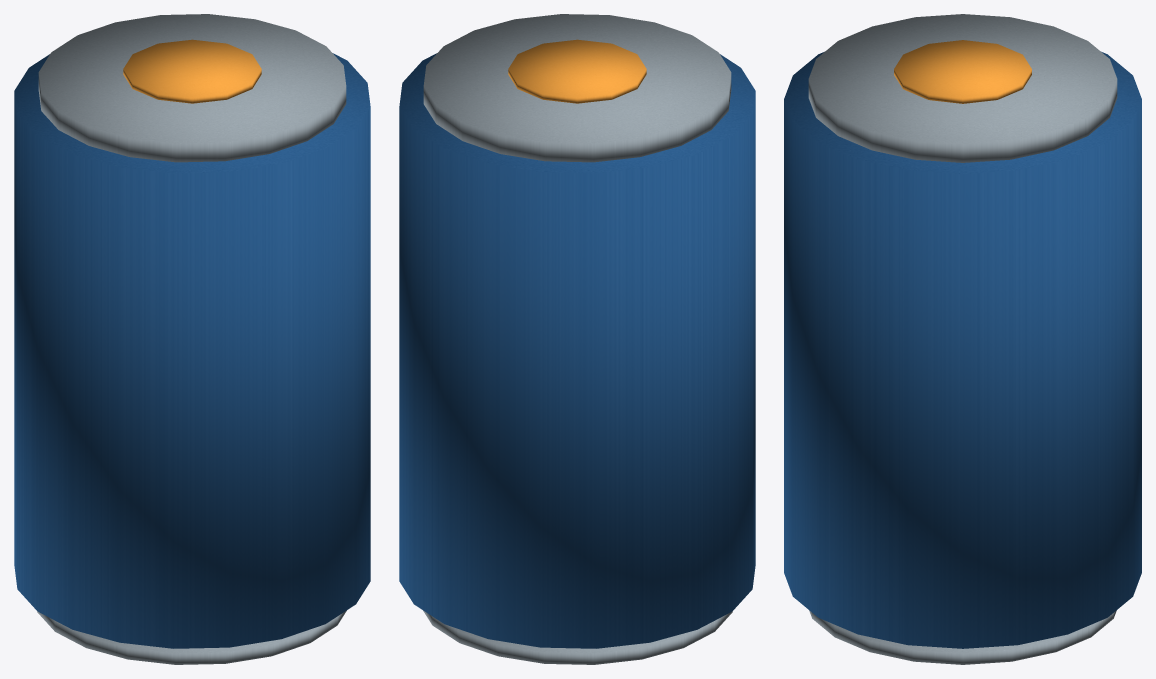
The model's file is 178_L116_PLP12.obj.
The picture shows the model from 3 angles, left to right: view 1: azimuth 30°, elevation 25°; view 2: azimuth 150°, elevation 25°; view 3: azimuth 270°, elevation 25°; orthographic projection.
Visible parts, largest first — view 1: L116_000__PSMAT__Supercap_Sleeve, L116_001__PSMAT__Supercap_Steel, L116_003__PSMAT__Warning_Amber, L116_002__PSMAT__Supercap_Steel; view 2: L116_000__PSMAT__Supercap_Sleeve, L116_001__PSMAT__Supercap_Steel, L116_003__PSMAT__Warning_Amber, L116_002__PSMAT__Supercap_Steel; view 3: L116_000__PSMAT__Supercap_Sleeve, L116_001__PSMAT__Supercap_Steel, L116_003__PSMAT__Warning_Amber, L116_002__PSMAT__Supercap_Steel.
Part boxes in pixels (box(x1,y1,x2,y2)): L116_000__PSMAT__Supercap_Sleeve: box(14, 53, 370, 648); L116_001__PSMAT__Supercap_Steel: box(38, 14, 346, 162); L116_003__PSMAT__Warning_Amber: box(123, 39, 261, 103); L116_002__PSMAT__Supercap_Steel: box(37, 610, 346, 664); L116_000__PSMAT__Supercap_Sleeve: box(399, 53, 755, 648); L116_001__PSMAT__Supercap_Steel: box(423, 14, 731, 162); L116_003__PSMAT__Warning_Amber: box(508, 39, 646, 103); L116_002__PSMAT__Supercap_Steel: box(423, 610, 732, 664); L116_000__PSMAT__Supercap_Sleeve: box(784, 51, 1141, 648); L116_001__PSMAT__Supercap_Steel: box(808, 14, 1117, 162); L116_003__PSMAT__Warning_Amber: box(894, 40, 1031, 103); L116_002__PSMAT__Supercap_Steel: box(809, 610, 1116, 664).
Bounding box in the file's own units: 0.0088 × 0.0144 × 0.0088.
Materials: 3 (3 with a texture image).
